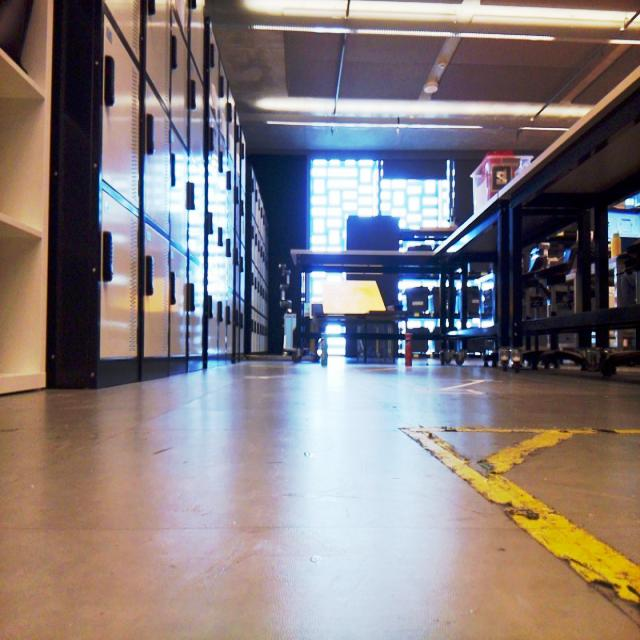greenpringles: (319, 322, 336, 377)
redpringles: (406, 322, 420, 372)
